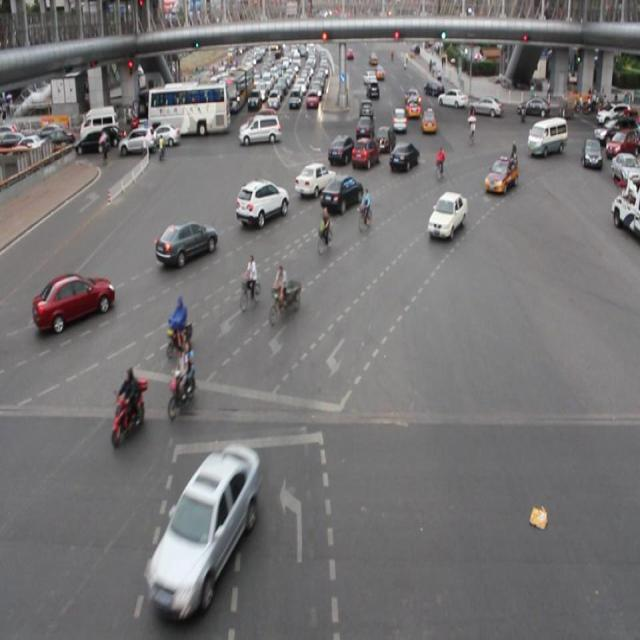BigCar: (148, 82, 230, 134)
car: (143, 447, 263, 623), (35, 272, 116, 334), (154, 223, 217, 269), (238, 180, 287, 227), (427, 189, 467, 244), (241, 114, 282, 154), (529, 118, 568, 159), (487, 148, 517, 198), (294, 158, 327, 200), (117, 124, 155, 160), (325, 126, 356, 169), (391, 138, 420, 178), (322, 180, 359, 210), (469, 89, 501, 123), (615, 148, 639, 189), (354, 136, 378, 176), (581, 132, 602, 177), (439, 82, 467, 112), (423, 102, 438, 134), (405, 89, 421, 117), (393, 105, 408, 132)
